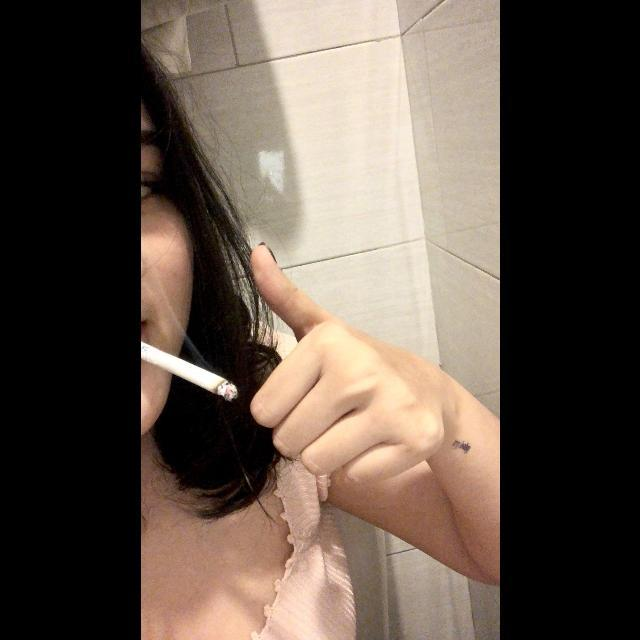rokok: (140, 339, 236, 405)
